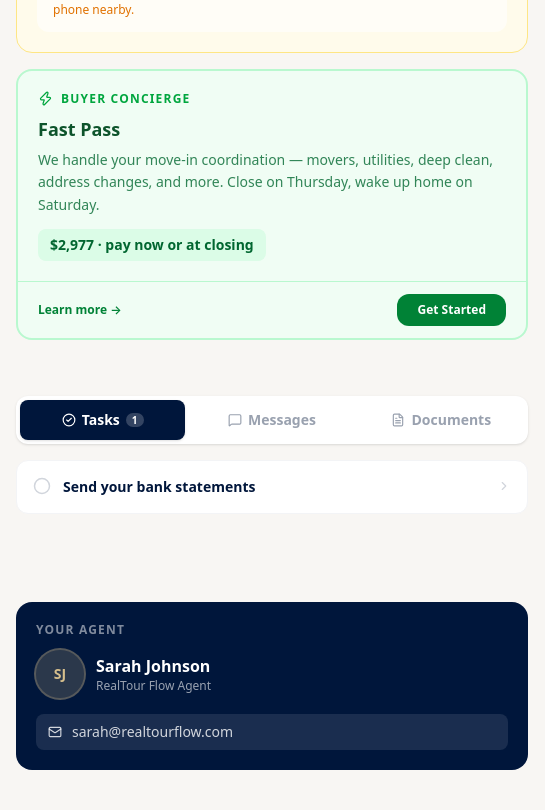
Scenario: Buyer portal task completion › rolls the optimistic check back AND shows an error when patchTaskStatus rejects
(page scrolled)
Click the button "Send your bank statements".
click(159, 486)  # box [17,461,527,513]
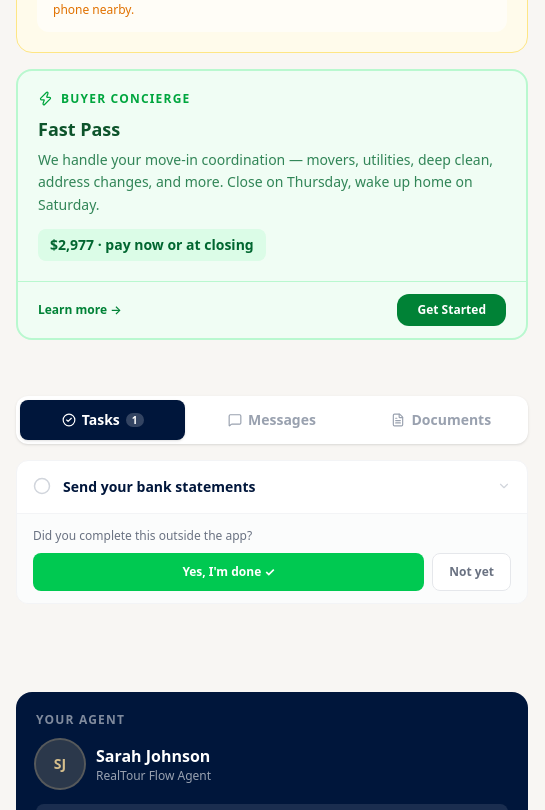
Click the button "Yes, I'm done ✓".
click(229, 572)  # box [33,553,424,591]
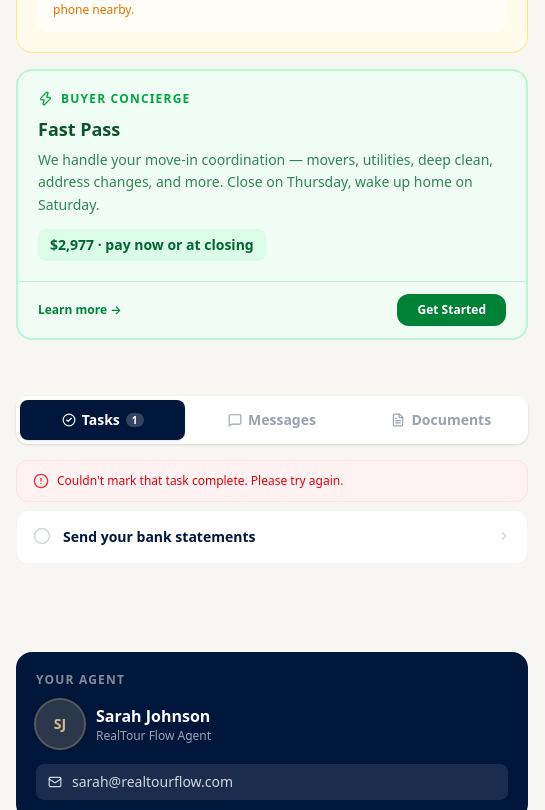
Expected: the text "Send your bank statements" is shown, [63,527,256,546]
Expected: the text "Couldn't mark that task complete. Please try again." is shown, [57,473,343,489]
